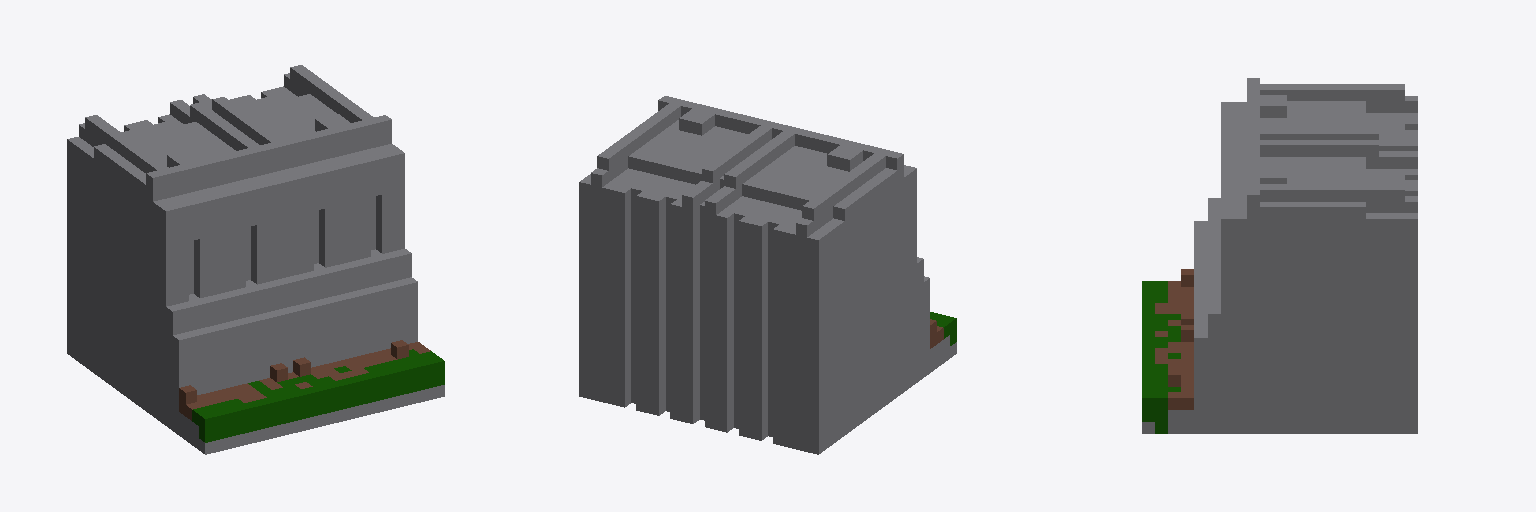
3 renders of one model, left to right at view 1: azimuth 30°, elevation 25°; view 2: azimuth 150°, elevation 25°; view 3: azimuth 270°, elevation 25°, orthographic.
Bounding box in the file's own units: 21 × 20 × 21.
Materials: 1 (1 with a texture image).